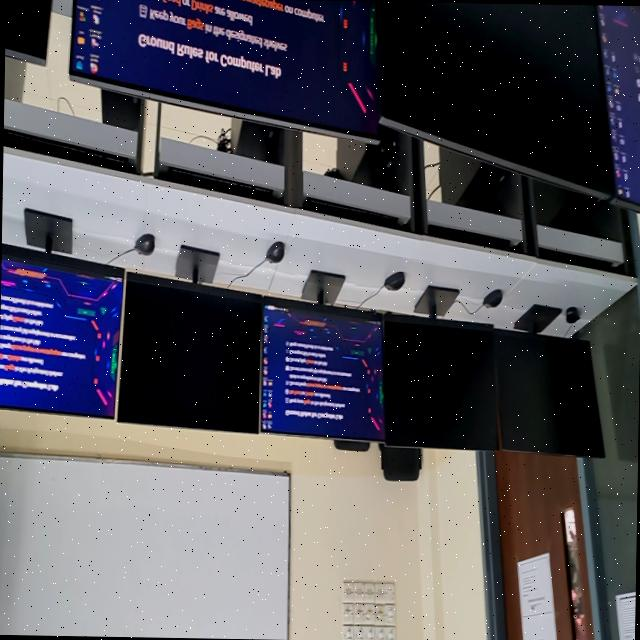Chair: (379, 444, 421, 480), (333, 440, 369, 451)
Cpu: (439, 146, 509, 212), (336, 125, 397, 188), (534, 180, 599, 231), (231, 118, 275, 160), (100, 89, 140, 131)
Keyboard: (3, 129, 131, 171), (163, 167, 273, 201), (302, 197, 400, 228), (428, 224, 514, 250), (539, 246, 613, 269)
Monitor: (378, 1, 614, 198), (69, 0, 380, 139), (117, 245, 263, 433), (0, 209, 124, 418), (261, 270, 384, 441), (382, 286, 498, 450), (494, 305, 604, 457), (596, 5, 640, 207), (5, 0, 52, 65)
Mouse: (133, 233, 154, 255), (265, 241, 284, 263), (383, 272, 404, 290), (482, 289, 502, 307), (566, 307, 580, 323)
